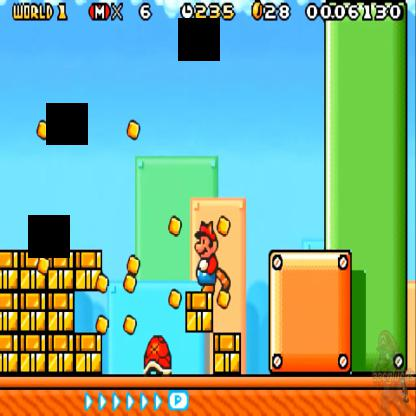Mario: (189, 219, 232, 297)
caparazon: (136, 329, 176, 379)
moneda: (248, 2, 268, 28)
